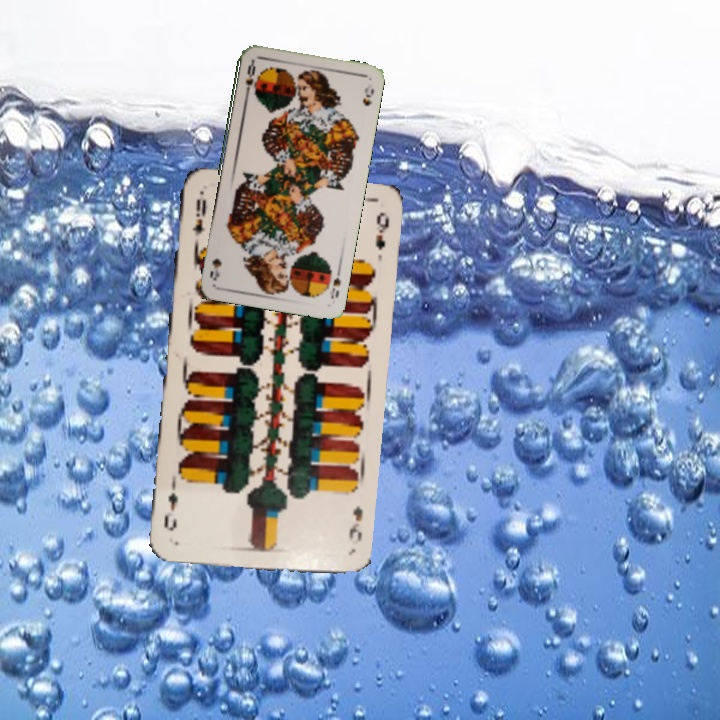E9: (188, 195, 209, 239), (345, 502, 365, 544)
SO: (241, 58, 258, 98), (327, 264, 343, 301)
